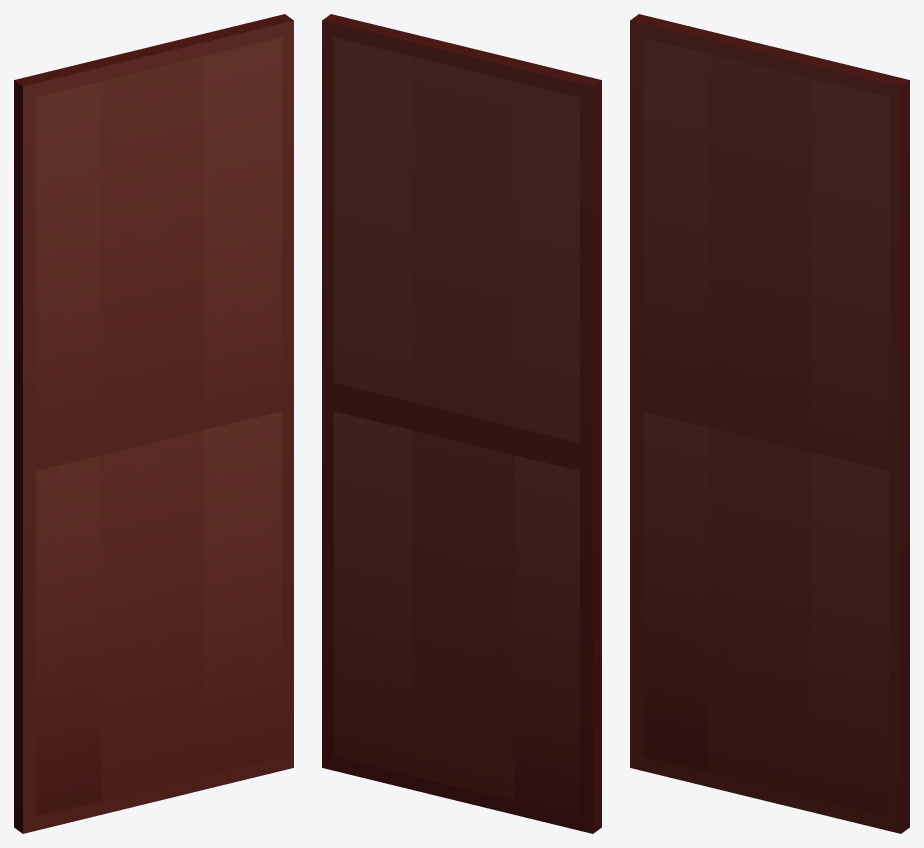
Rendered from SM_Doors_01.fbx.
3 renders of one model, left to right at view 1: azimuth 30°, elevation 25°; view 2: azimuth 150°, elevation 25°; view 3: azimuth 330°, elevation 25°, orthographic.
Visible parts, largest first — view 1: SM_Doors_01; view 2: SM_Doors_01; view 3: SM_Doors_01.
Part boxes in pixels (x1=…): SM_Doors_01: x1=14, y1=14, x2=293, y2=833; SM_Doors_01: x1=322, y1=14, x2=601, y2=833; SM_Doors_01: x1=630, y1=14, x2=909, y2=833.
Size of the model in its own units: 0.7 by 1.85 by 0.0397.
